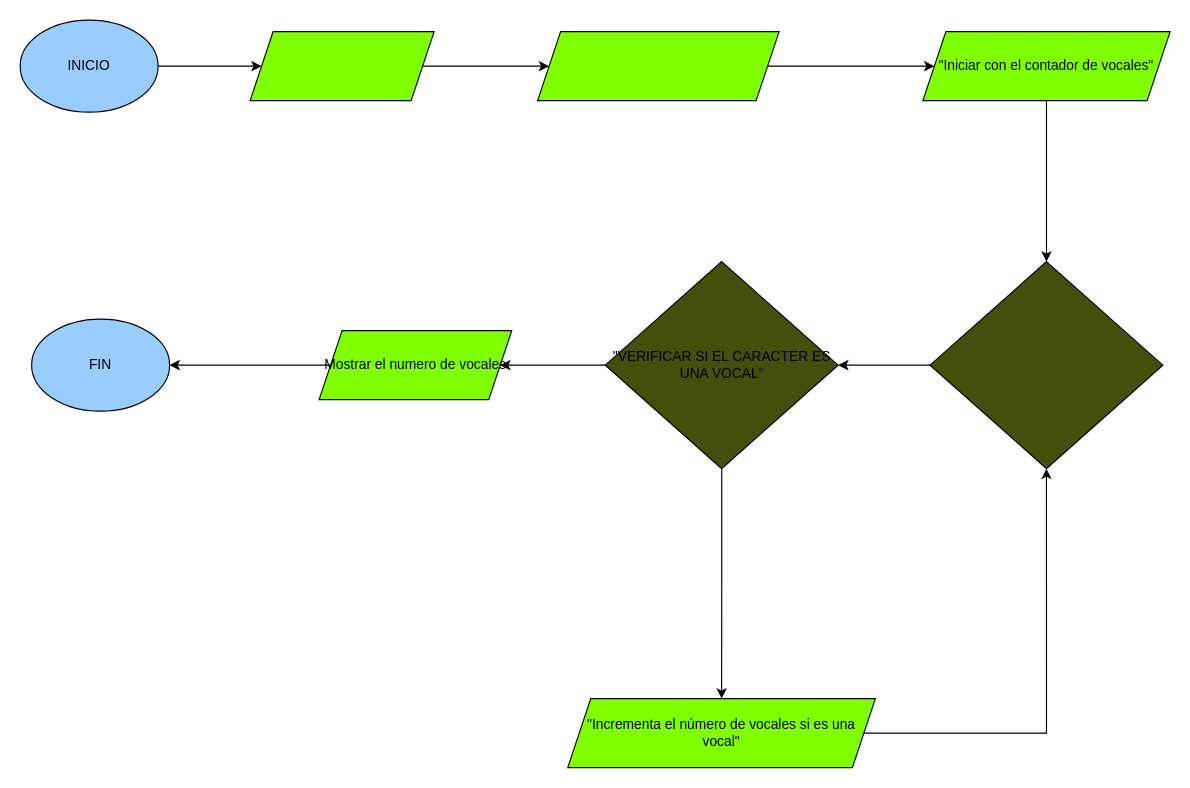
The diagram is 1190 pixels wide and 788 high, and some of its shapes have lost their labels. Each missing label, with the centre of its shape:
"Guardar el texto ingresado por el usuario en una variable": [657,65]
"REVISAR LOS CARACTERES DEL TEXTO": [1046,364]
"Solicitar al usuario que ingrese el texto": [341,65]
